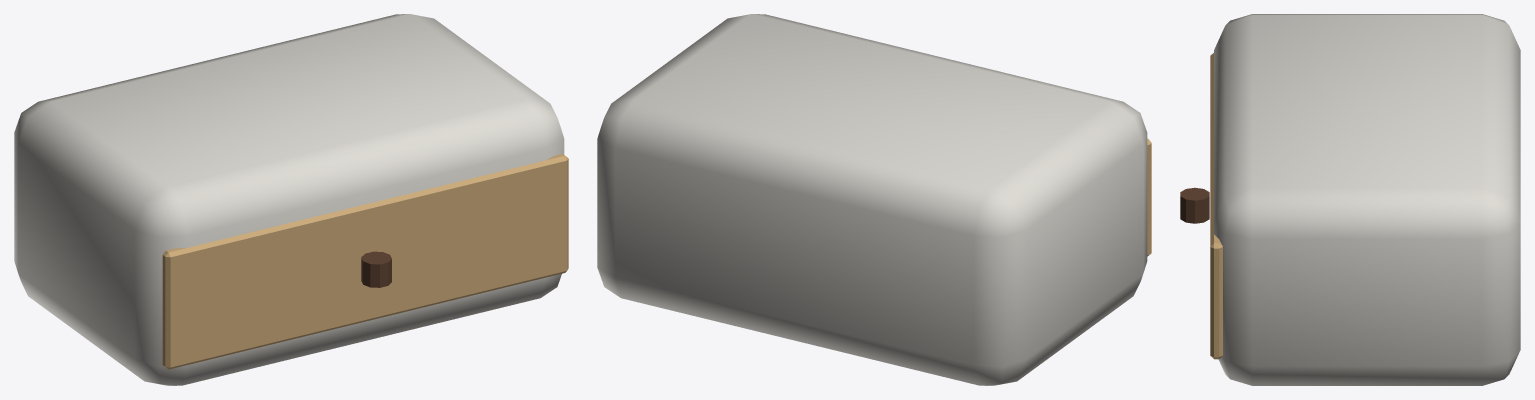
Rendered from i_kit_4.glb.
The picture shows the model from 3 angles, left to right: view 1: azimuth 30°, elevation 25°; view 2: azimuth 150°, elevation 25°; view 3: azimuth 270°, elevation 25°; orthographic projection.
Parts seen in each view (by area): view 1: o, o.001, o.002; view 2: o, o.001; view 3: o, o.001, o.002.
Boxes of the visible parts, <box> form: o: <box>14,14,564,385</box>; o.001: <box>162,154,568,369</box>; o.002: <box>361,251,391,287</box>; o: <box>597,14,1147,385</box>; o.001: <box>1147,138,1151,256</box>; o: <box>1214,14,1520,385</box>; o.001: <box>1210,53,1222,359</box>; o.002: <box>1180,187,1209,223</box>.
Bounding box in the file's own units: 0.38 × 0.17 × 0.2664.
